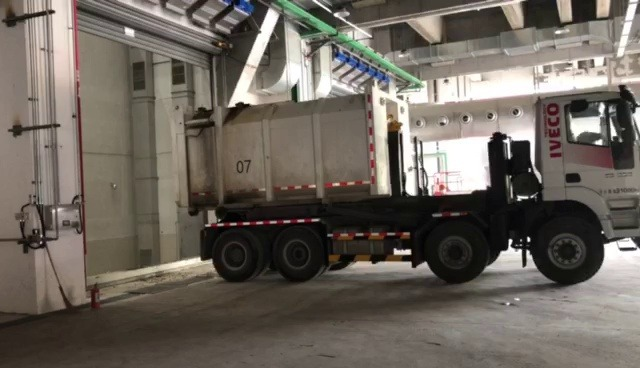truck: (172, 74, 640, 289)
